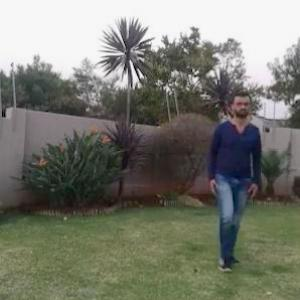follow: (209, 94, 255, 252)
